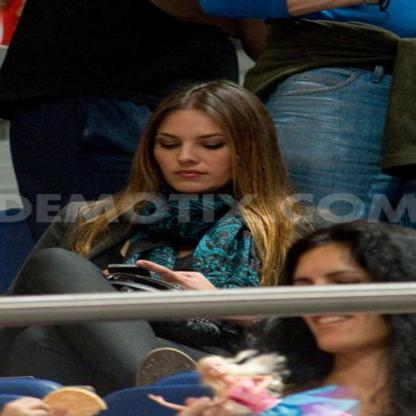face: (292, 242, 397, 350), (152, 106, 242, 194)
